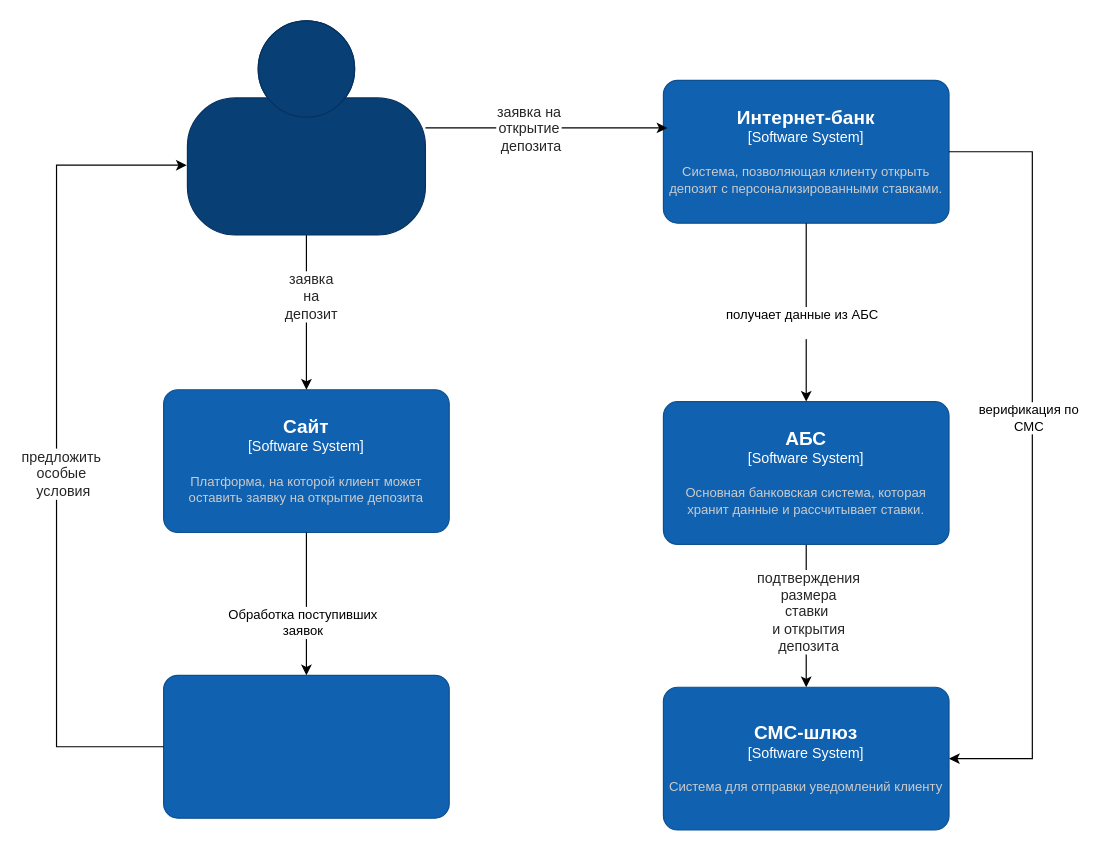
This 1098x851 diagram has some shape labels left out. The centre of each missing label's shape, as x and y in pixels:
"Клиент [Person] Клиент, желающий открыть депозит." belongs at (x=305, y=127).
"Кол-центр [Software System] Обрабатывает заявки, поступающие с сайта." belongs at (x=305, y=746).
